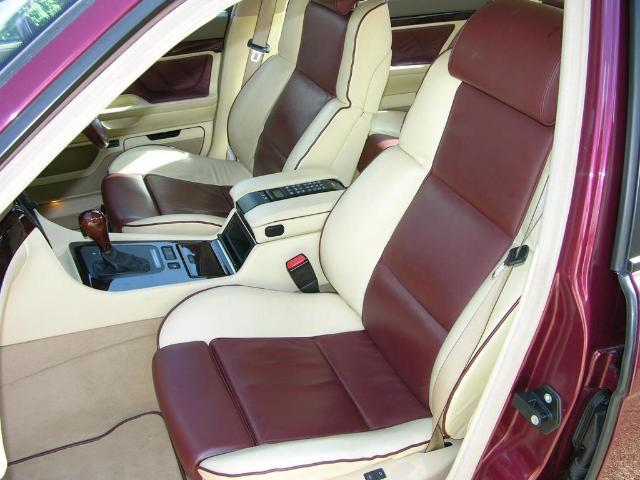Seatbelt: (420, 177, 552, 455), (225, 0, 277, 158)
